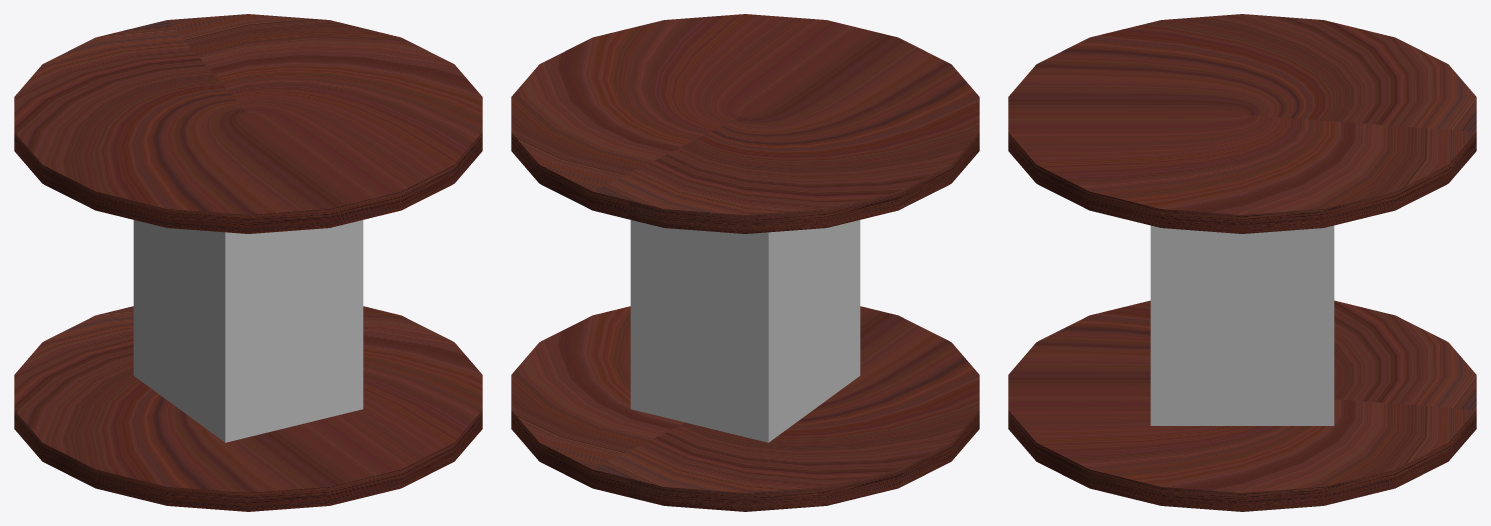
Rendered from Spring.FBX.
The picture shows the model from 3 angles, left to right: view 1: azimuth 30°, elevation 25°; view 2: azimuth 150°, elevation 25°; view 3: azimuth 270°, elevation 25°; orthographic projection.
Visible parts, largest first — view 1: Cylinder002, Cylinder001, Box001; view 2: Cylinder002, Cylinder001, Box001; view 3: Cylinder002, Cylinder001, Box001.
Boxes of the visible parts, left/top/right/bottom form: Cylinder002: left=14, top=14, right=482, bottom=233; Cylinder001: left=14, top=306, right=482, bottom=511; Box001: left=133, top=220, right=363, bottom=442; Cylinder002: left=511, top=14, right=979, bottom=233; Cylinder001: left=511, top=306, right=979, bottom=511; Box001: left=630, top=220, right=860, bottom=442; Cylinder002: left=1008, top=14, right=1476, bottom=233; Cylinder001: left=1008, top=300, right=1476, bottom=511; Box001: left=1150, top=225, right=1334, bottom=425.
Bounding box in the file's own units: 95.96 × 94.5 × 66.08.
